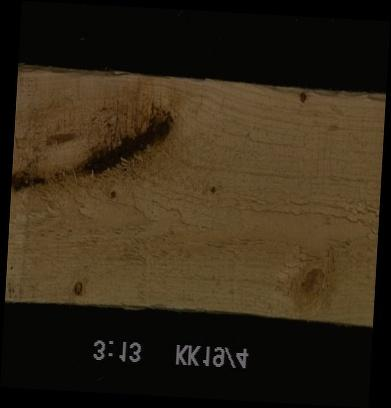dry_knot: (71, 280, 83, 296)
edge_knot: (297, 91, 306, 105)
small_knot: (208, 184, 217, 196)
sound_knot: (273, 237, 351, 319)
wave: (247, 87, 385, 99)
